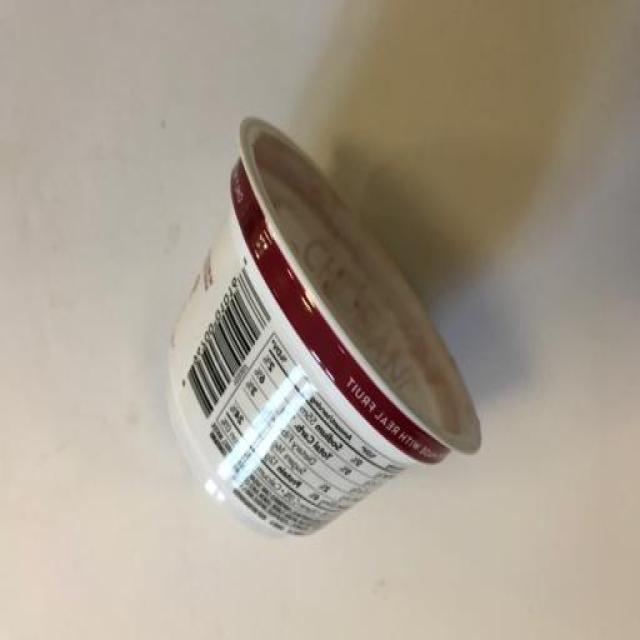Random Trash: (165, 113, 482, 537)
